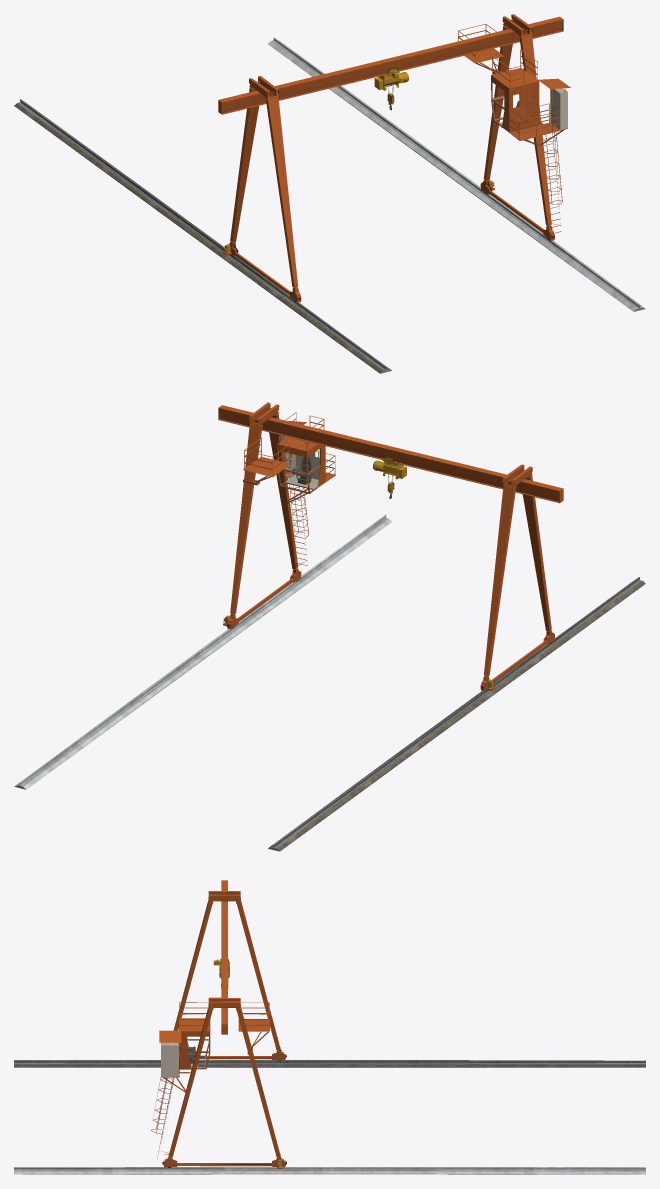
The model's file is crane.fbx.
The picture shows the model from 3 angles, top to bottom: view 1: azimuth 30°, elevation 25°; view 2: azimuth 150°, elevation 25°; view 3: azimuth 270°, elevation 25°; orthographic projection. The views are drawn at different scales.
Parts seen in each view (by area): view 1: model_7; view 2: model_7; view 3: model_7.
Boxes of the visible parts, <box> form: model_7: <box>14,14,645,373</box>; model_7: <box>14,402,645,851</box>; model_7: <box>14,880,645,1174</box>.
Size of the model in its own units: 1259 by 701 by 2337.
1 material, 1 textured.
